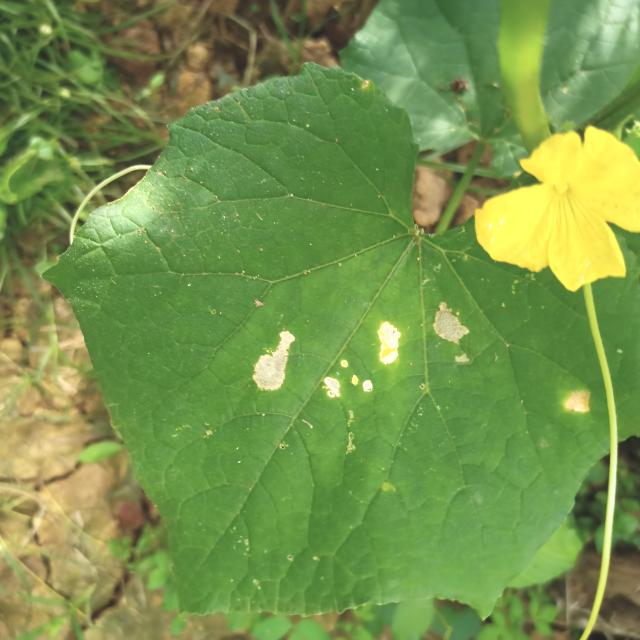disease_cucumber: (250, 301, 471, 401), (562, 387, 594, 418)
